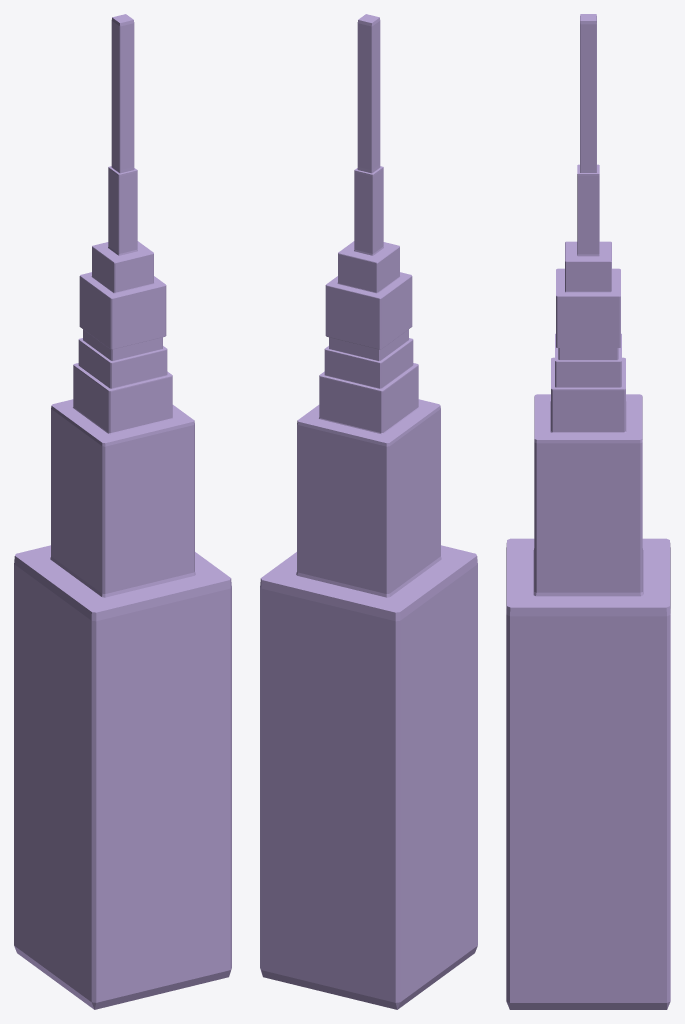
File: RandomBuilding.gltf
3 renders of one model, left to right at view 1: azimuth 30°, elevation 25°; view 2: azimuth 150°, elevation 25°; view 3: azimuth 270°, elevation 25°, orthographic.
Visible parts, largest first — view 1: Cube; view 2: Cube; view 3: Cube.
Boxes of the visible parts, x1=… form: Cube: x1=14, y1=14, x2=231, y2=1009; Cube: x1=260, y1=14, x2=477, y2=1009; Cube: x1=506, y1=14, x2=670, y2=1009.
Bounding box in the file's own units: 2 × 12.9 × 2.
